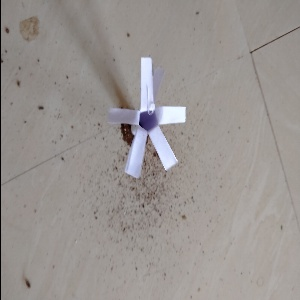weed: (106, 58, 190, 169)
